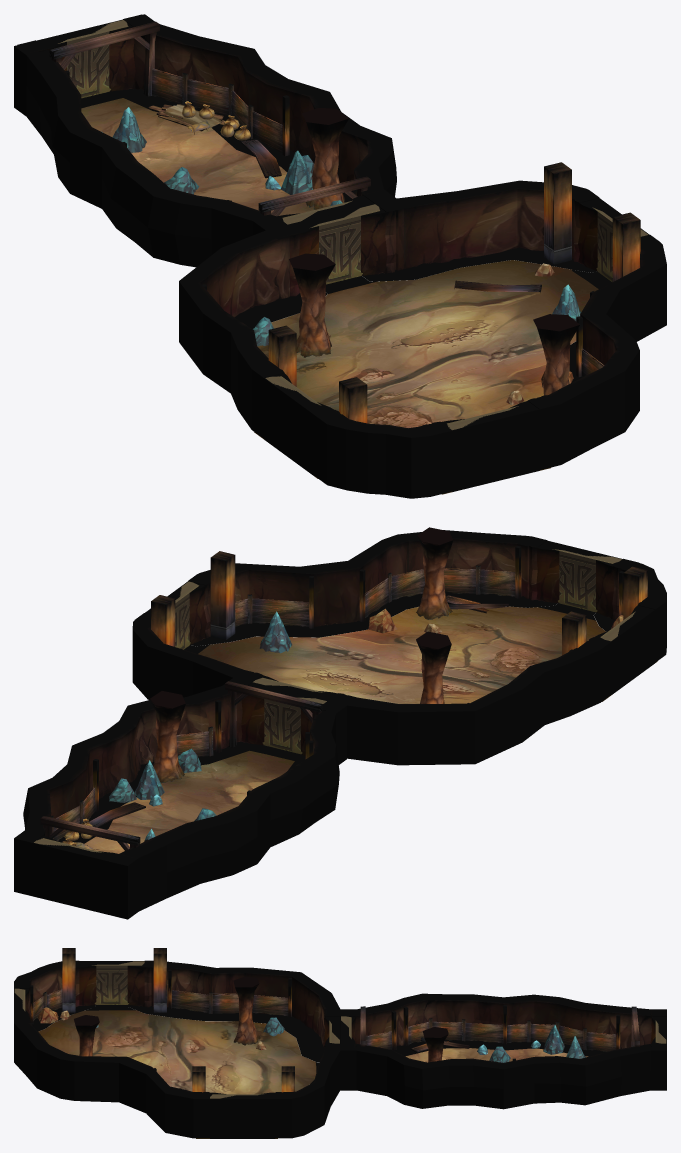
3 renders of one model, top to bottom at view 1: azimuth 30°, elevation 25°; view 2: azimuth 150°, elevation 25°; view 3: azimuth 270°, elevation 25°, orthographic. The views are drawn at different scales.
Parts seen in each view (by area): view 1: Dun_011_Room_003_wall, Dun_011_Room_003_ground, Dan1, Dun_011_Door_002_old (×6), Dun_032_Object_005x (×2), Dan2, Dungeon_011_Object_010 (×3), Dun_011_Door_002 (×3), Dun_011_Door_003_WarpRoom (×3), Dun_011_Room_003_shadow, Dan1_shadow, Dun_032_Object_003 (+1 smaller); view 2: Dun_011_Room_003_wall, Dan1, Dun_011_Room_003_ground, Dun_032_Object_005x (×2), Dun_011_Door_002_old (×6), Dan2, Dungeon_011_Object_010 (×3), Dun_011_Door_003_WarpRoom (×3), Dun_011_Door_002 (×3), Dun_011_Room_003_shadow, Dun_032_Object_003 (×2), Dan1_shadow (+1 smaller); view 3: Dan1, Dun_011_Room_003_wall, Dun_011_Room_003_ground, Dun_032_Object_005x (×2), Dun_011_Door_002_old (×6), Dungeon_011_Object_010 (×3), Dun_011_Room_003_shadow, Dun_011_Door_003_WarpRoom, Dun_011_Door_002 (×2), Dan2, Dan1_shadow, Dun_032_Object_003 (×2).
Part boxes in pixels (x1,y1,x2,y2): Dun_011_Room_003_wall: (179,180,666,498); Dun_011_Room_003_ground: (254,260,598,494); Dan1: (14,14,396,267); Dun_011_Door_002_old (×6): (17,14,660,491); Dun_032_Object_005x (×2): (49,21,640,425); Dan2: (81,98,314,215); Dungeon_011_Object_010 (×3): (289,108,579,395); Dun_011_Door_002 (×3): (264,204,557,491); Dun_011_Door_003_WarpRoom (×3): (58,20,648,284); Dun_011_Room_003_shadow: (235,247,596,382); Dan1_shadow: (111,88,351,202); Dun_032_Object_003: (101,131,342,205); Dun_011_Room_003_wall: (132,530,666,765); Dan1: (14,678,346,919); Dun_011_Room_003_ground: (198,606,657,703); Dun_032_Object_005x (×2): (40,546,647,850); Dun_011_Door_002_old (×6): (17,536,664,913); Dan2: (84,750,294,853); Dungeon_011_Object_010 (×3): (150,527,453,783); Dun_011_Door_003_WarpRoom (×3): (175,549,621,754); Dun_011_Door_002 (×3): (28,537,662,914); Dun_011_Room_003_shadow: (191,591,614,646); Dun_032_Object_003 (×2): (109,608,623,806); Dan1_shadow: (58,741,305,843); Dan1: (340,993,666,1109); Dun_011_Room_003_wall: (14,961,340,1138); Dun_011_Room_003_ground: (38,1010,316,1138); Dun_032_Object_005x (×2): (30,948,639,1092); Dun_011_Door_002_old (×6): (14,960,666,1138); Dungeon_011_Object_010 (×3): (74,976,448,1062); Dun_011_Room_003_shadow: (33,1005,324,1084); Dun_011_Door_003_WarpRoom: (92,961,144,1004); Dun_011_Door_002 (×2): (75,961,288,1138); Dan2: (405,1048,588,1062); Dan1_shadow: (394,1040,605,1056); Dun_032_Object_003 (×2): (38,1007,564,1054).
Size of what is drawn, in the model's own units: 15 by 3.11 by 30.
